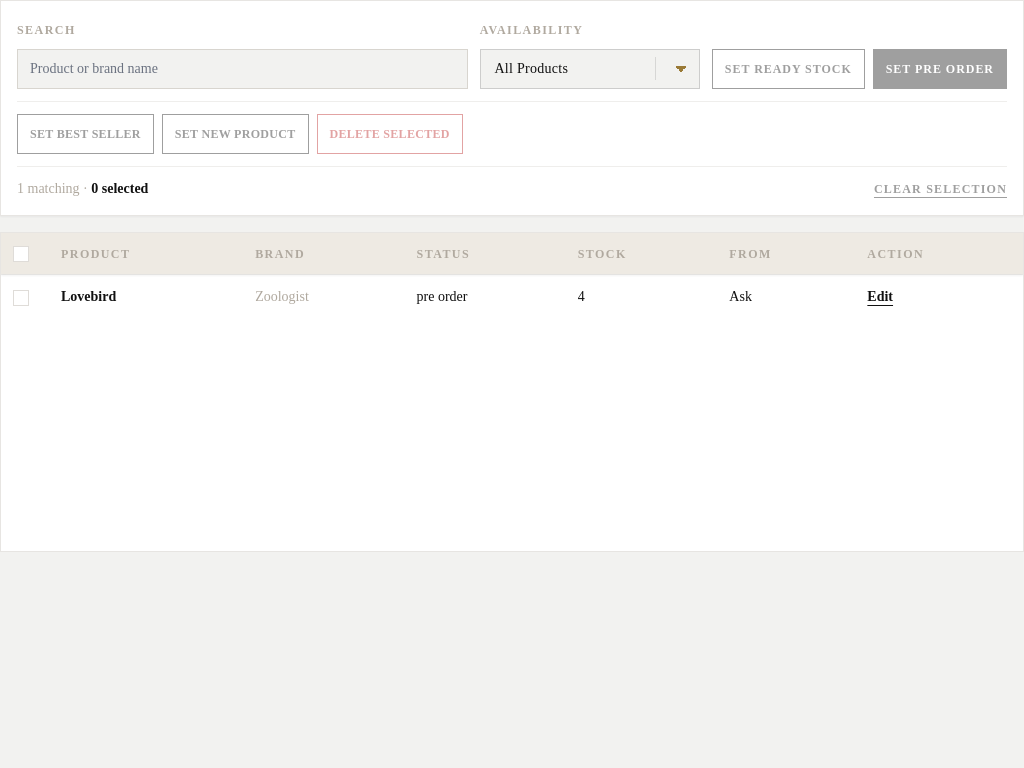
Test: catalog management UI › applies Set New Product to selected products
Click the checkbox named "Select Lovebird" at point(21, 298), box [13, 290, 29, 306]
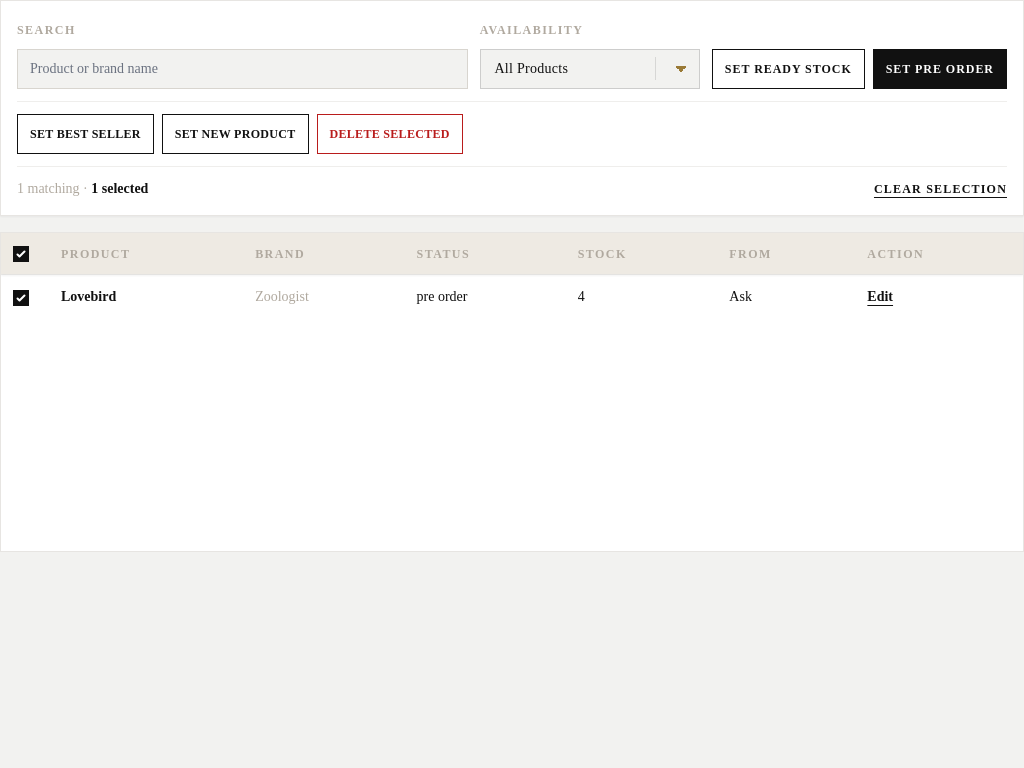
Click the button "Set New Product" at point(235, 134), box [162, 114, 309, 154]
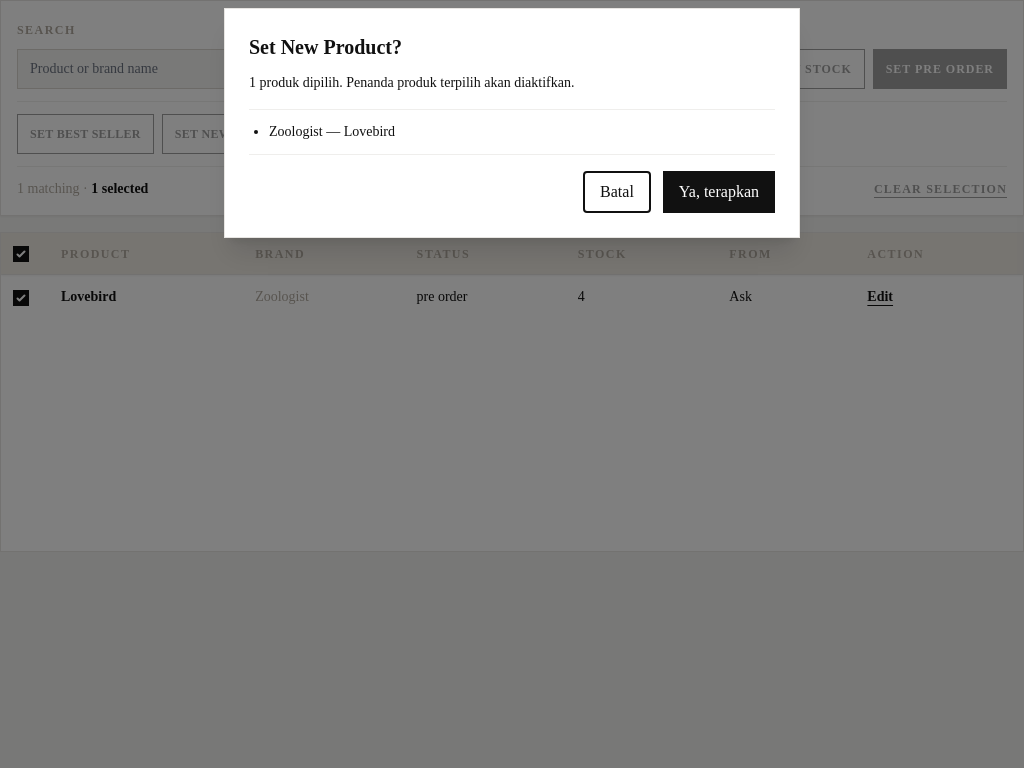
Click the button "Ya, terapkan" at point(719, 192), box [663, 171, 775, 213]
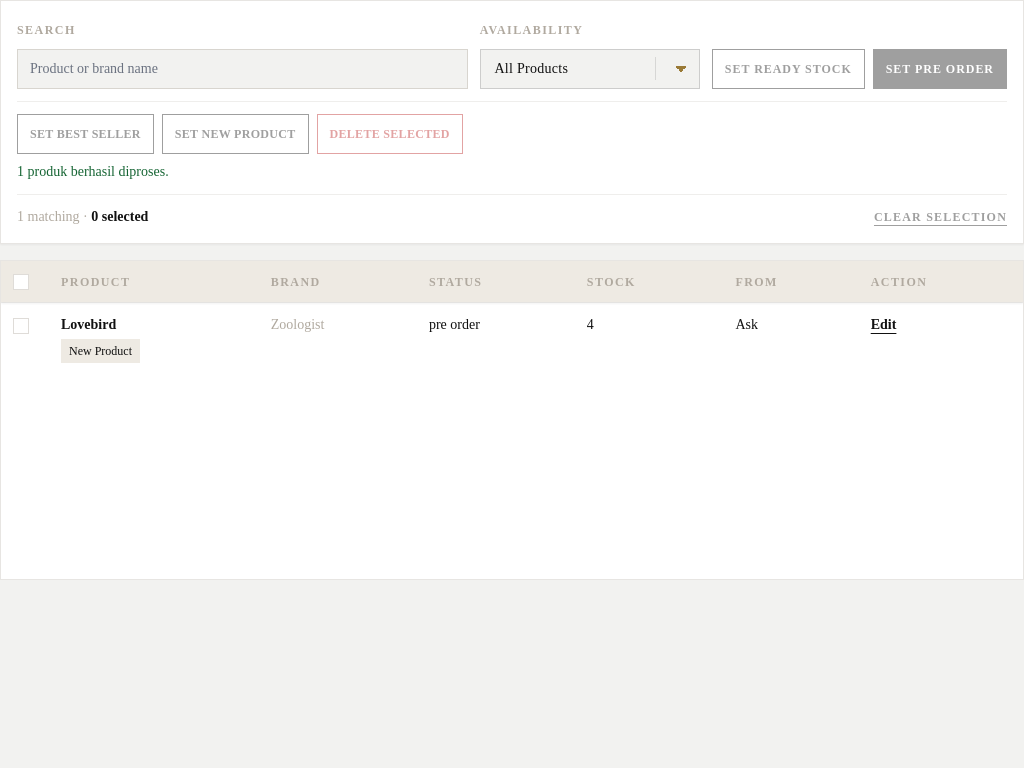
Expected: the text "New Product" is shown, [61, 339, 140, 363]
Expected: the text "0 selected" is shown, [91, 209, 148, 224]
